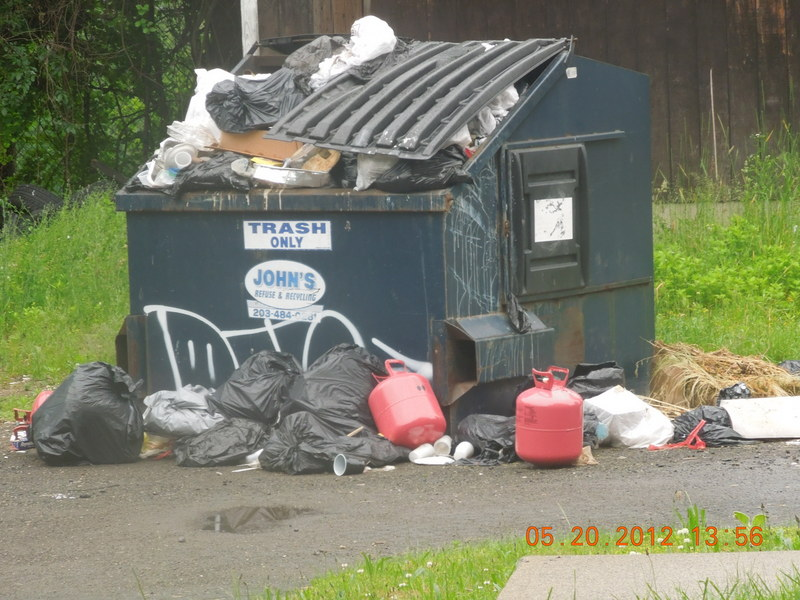Dumpster: (112, 28, 655, 387)
